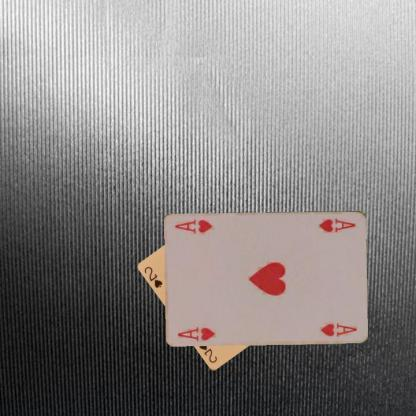2s: (142, 264, 164, 290)
Ah: (175, 324, 216, 342), (316, 216, 356, 234)
